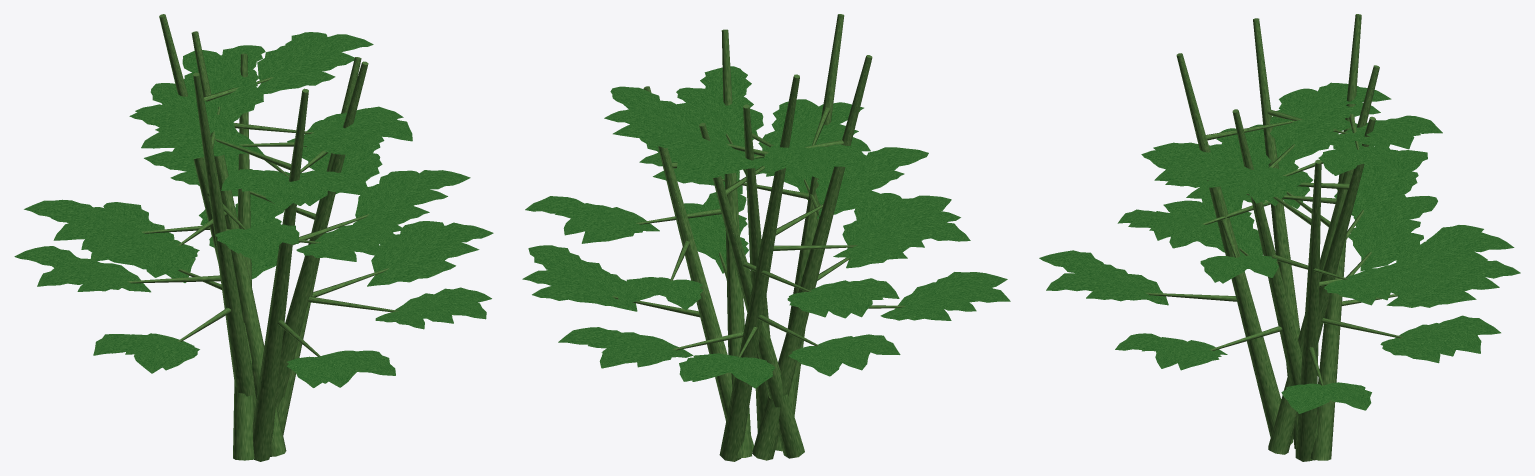
File: PZ_Crop_Potato_Mid.glb
3 views of the same model, side by side, from view 1: azimuth 30°, elevation 25°; view 2: azimuth 150°, elevation 25°; view 3: azimuth 270°, elevation 25° (orthographic). The views are drawn at different scales.
Parts seen in each view (by area): view 1: PZ_Crop_Potato_Mid_03_Broad_Leaflets, PZ_Crop_Potato_Mid_01_Stem_Shoots, PZ_Crop_Potato_Mid_02_Compound_Petioles; view 2: PZ_Crop_Potato_Mid_03_Broad_Leaflets, PZ_Crop_Potato_Mid_01_Stem_Shoots, PZ_Crop_Potato_Mid_02_Compound_Petioles; view 3: PZ_Crop_Potato_Mid_03_Broad_Leaflets, PZ_Crop_Potato_Mid_01_Stem_Shoots, PZ_Crop_Potato_Mid_02_Compound_Petioles.
Boxes of the visible parts, x1,y1,x2,y2 form: PZ_Crop_Potato_Mid_03_Broad_Leaflets: (14,32,493,387); PZ_Crop_Potato_Mid_01_Stem_Shoots: (159,14,368,461); PZ_Crop_Potato_Mid_02_Compound_Petioles: (127,77,398,356); PZ_Crop_Potato_Mid_03_Broad_Leaflets: (522,66,1010,388); PZ_Crop_Potato_Mid_01_Stem_Shoots: (643,14,872,461); PZ_Crop_Potato_Mid_02_Compound_Petioles: (612,107,905,357); PZ_Crop_Potato_Mid_03_Broad_Leaflets: (1039,82,1520,413); PZ_Crop_Potato_Mid_01_Stem_Shoots: (1176,14,1379,461); PZ_Crop_Potato_Mid_02_Compound_Petioles: (1145,109,1402,385).
Bounding box in the file's own units: 0.449 × 0.4104 × 0.4415.
Materials: 2 (2 with a texture image).
